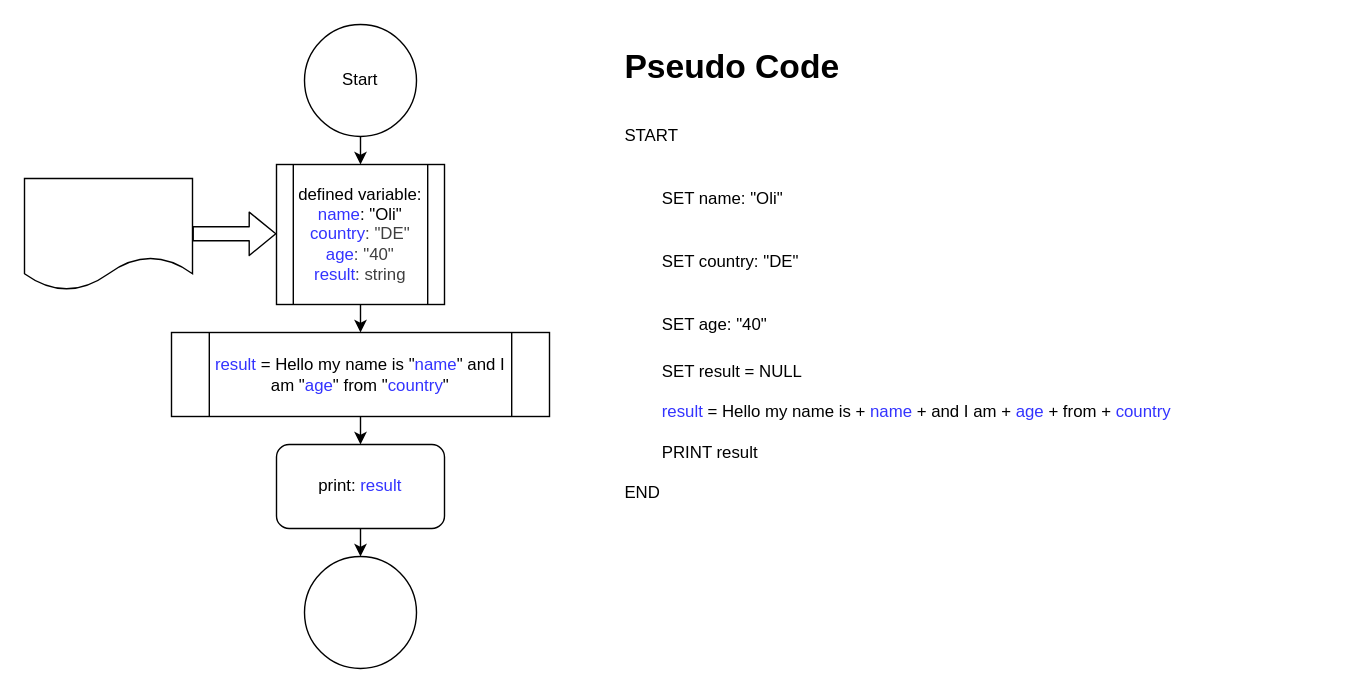
This 1351x693 diagram has some shape labels left out. The centre of each missing label's shape, as x and y in pixels:
End: (x=359, y=611)
Process: means when your app shall do something itself: (x=107, y=233)
